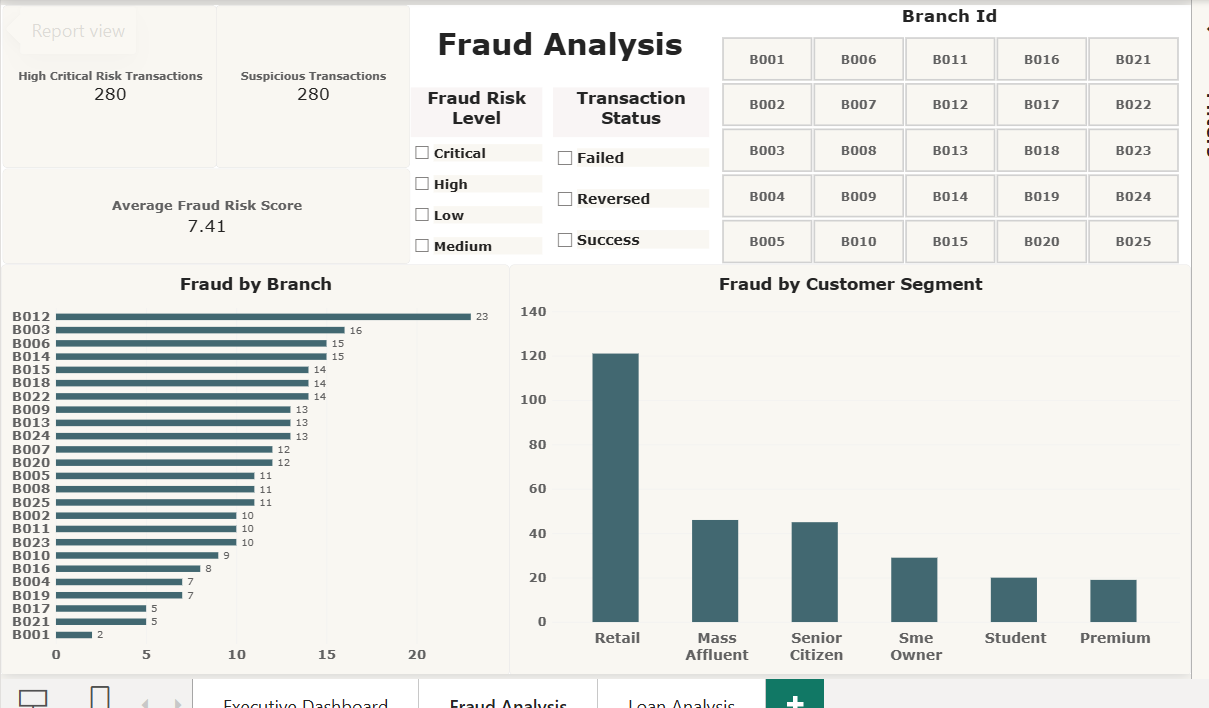

What the dashboard file says about the page in this screenshot:
{"tool":"powerbi","page":{"name":"Fraud Analysis","canvas":[1920,1080],"ordinal":1},"visuals":[{"type":"cardVisual","fields":{"Data":["Cleaned Data.Suspicious Transactions"]},"box":[346.1,0,314.6,263.8],"z":0},{"type":"cardVisual","fields":{"Data":["Cleaned Data.Average Fraud Risk Score"]},"box":[2.4,263.8,658.3,154.9],"z":1000},{"type":"cardVisual","fields":{"Data":["Cleaned Data.High Critical Risk Transactions"]},"box":[2.4,0,346.1,263.8],"z":2000},{"type":"clusteredBarChart","title":"Fraud by Branch","fields":{"Category":["FraudTransactions.branch_id"],"Y":["CountNonNull(FraudTransactions.transaction_id)"]},"box":[0,418.7,820.4,663.1],"z":3000},{"type":"clusteredColumnChart","title":"Fraud by Customer Segment","fields":{"Category":["Customers.customer_segment"],"Y":["CountNonNull(FraudTransactions.transaction_id)"]},"box":[819.8,417.6,1099.2,663.2],"z":4000},{"type":"slicer","title":"Fraud Risk Level","fields":{"Values":["FraudTransactions.fraud_risk_level"]},"box":[660.7,133.1,213,285.6],"z":5000},{"type":"slicer","title":"Transaction Status","fields":{"Values":["FraudTransactions.transaction_status"]},"box":[890.4,132,251.8,233.3],"z":6000},{"type":"slicer","title":"Branch Id","fields":{"Values":["FraudTransactions.branch_id"]},"box":[1142.3,0,776.9,418.7],"z":7000},{"type":"textbox","box":[660.7,0,481.6,133.1],"z":7001}]}

Visuals, with their boxes on the page's 1920x1080 design canvas (x1, y1, x2, y2). These are canvas units, not pixel positions in the 1209x708 screenshot, which may show the page scaled, cropped or inside an application window:
cardVisual - Cleaned Data.Suspicious Transactions: (346,0,661,264)
cardVisual - Cleaned Data.Average Fraud Risk Score: (2,264,661,419)
cardVisual - Cleaned Data.High Critical Risk Transactions: (2,0,348,264)
"Fraud by Branch" clusteredBarChart: (0,419,820,1082)
"Fraud by Customer Segment" clusteredColumnChart: (820,418,1919,1081)
"Fraud Risk Level" slicer: (661,133,874,419)
"Transaction Status" slicer: (890,132,1142,365)
"Branch Id" slicer: (1142,0,1919,419)
textbox: (661,0,1142,133)
